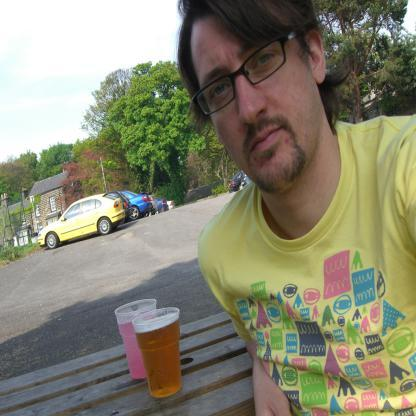car: (44, 193, 135, 246), (125, 190, 152, 219)
